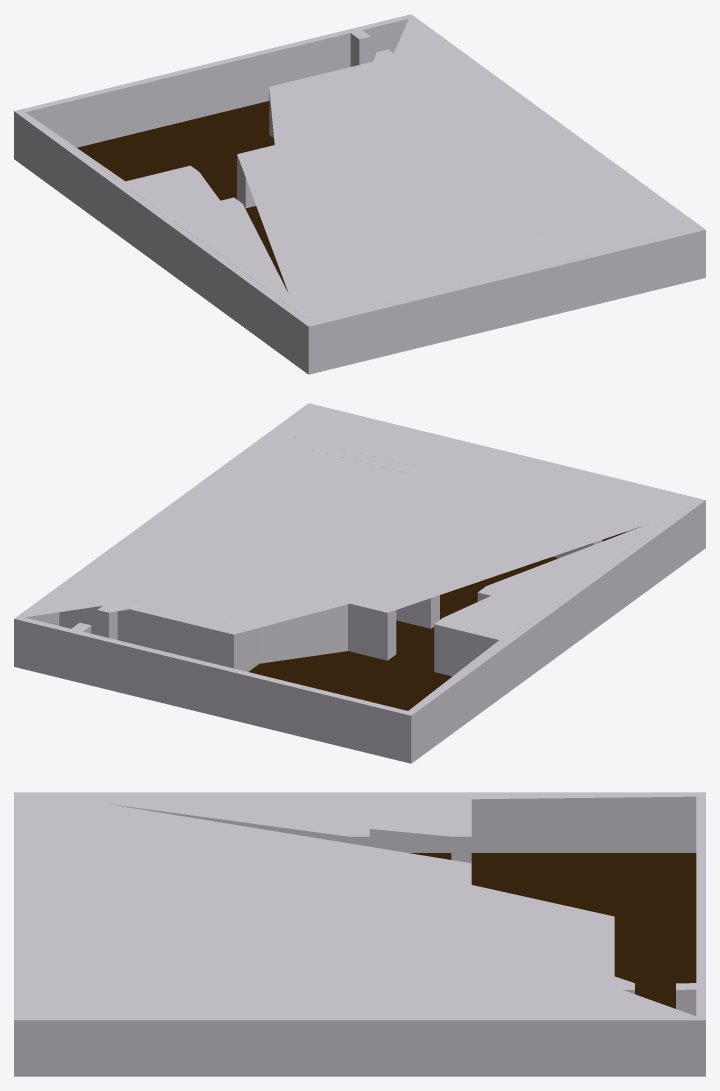
File: map_1.fbx
3 renders of one model, top to bottom at view 1: azimuth 30°, elevation 25°; view 2: azimuth 150°, elevation 25°; view 3: azimuth 270°, elevation 25°, orthographic. The views are drawn at different scales.
Parts seen in each view (by area): view 1: Cube; view 2: Cube; view 3: Cube.
Part boxes in pixels (x1=…): Cube: x1=14, y1=14, x2=705, y2=374; Cube: x1=14, y1=403, x2=705, y2=763; Cube: x1=14, y1=792, x2=705, y2=1076.
Bounding box in the file's own units: 2717 × 314 × 3490.
